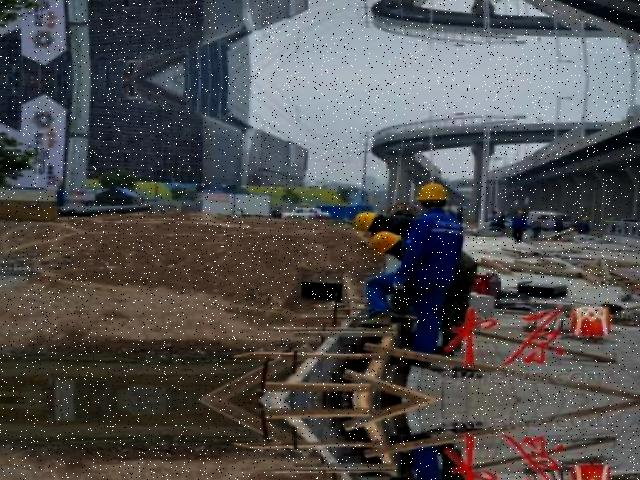Helmet: (410, 178, 449, 208), (364, 226, 401, 255), (348, 207, 378, 233)
